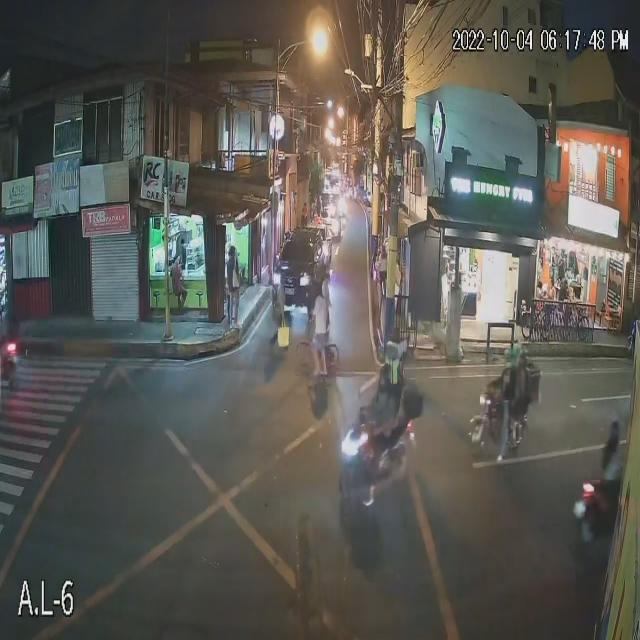helmet: (504, 352, 523, 364)
motorcycle: (332, 426, 423, 491), (569, 479, 630, 536), (480, 377, 536, 439), (0, 334, 29, 392)
rider: (385, 377, 398, 459), (607, 443, 618, 500), (507, 368, 516, 427)
